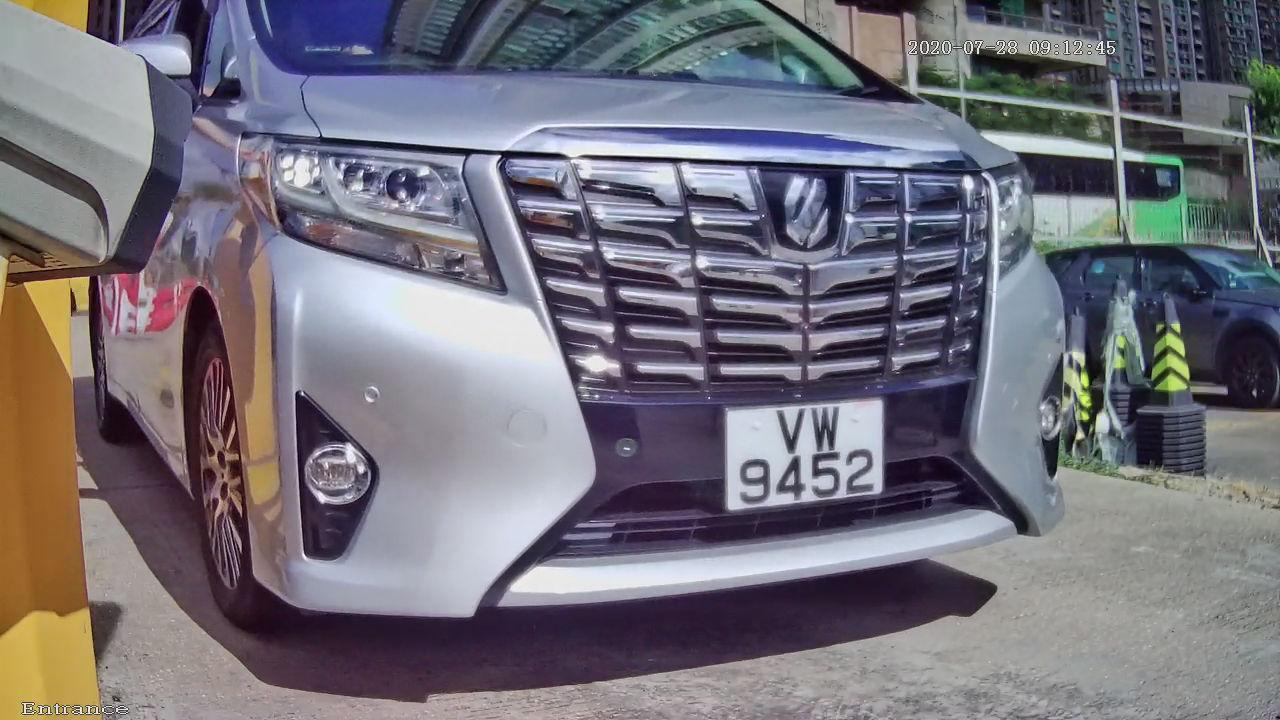privatecar: (29, 17, 1269, 685)
